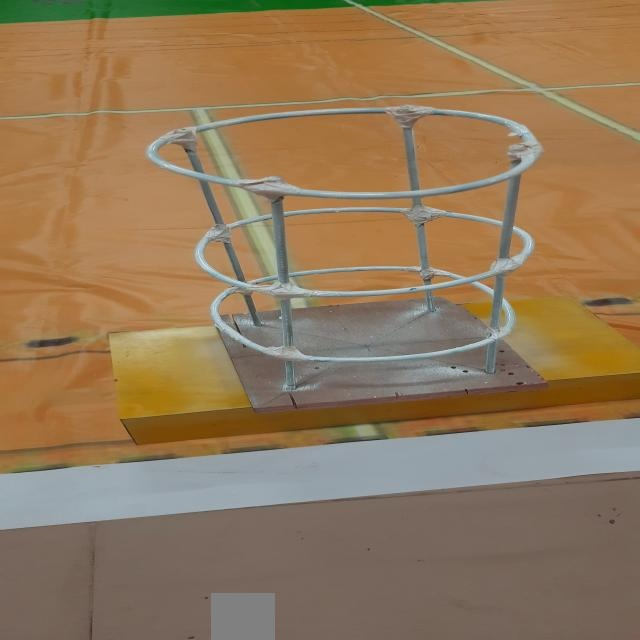silo: (123, 93, 576, 412)
